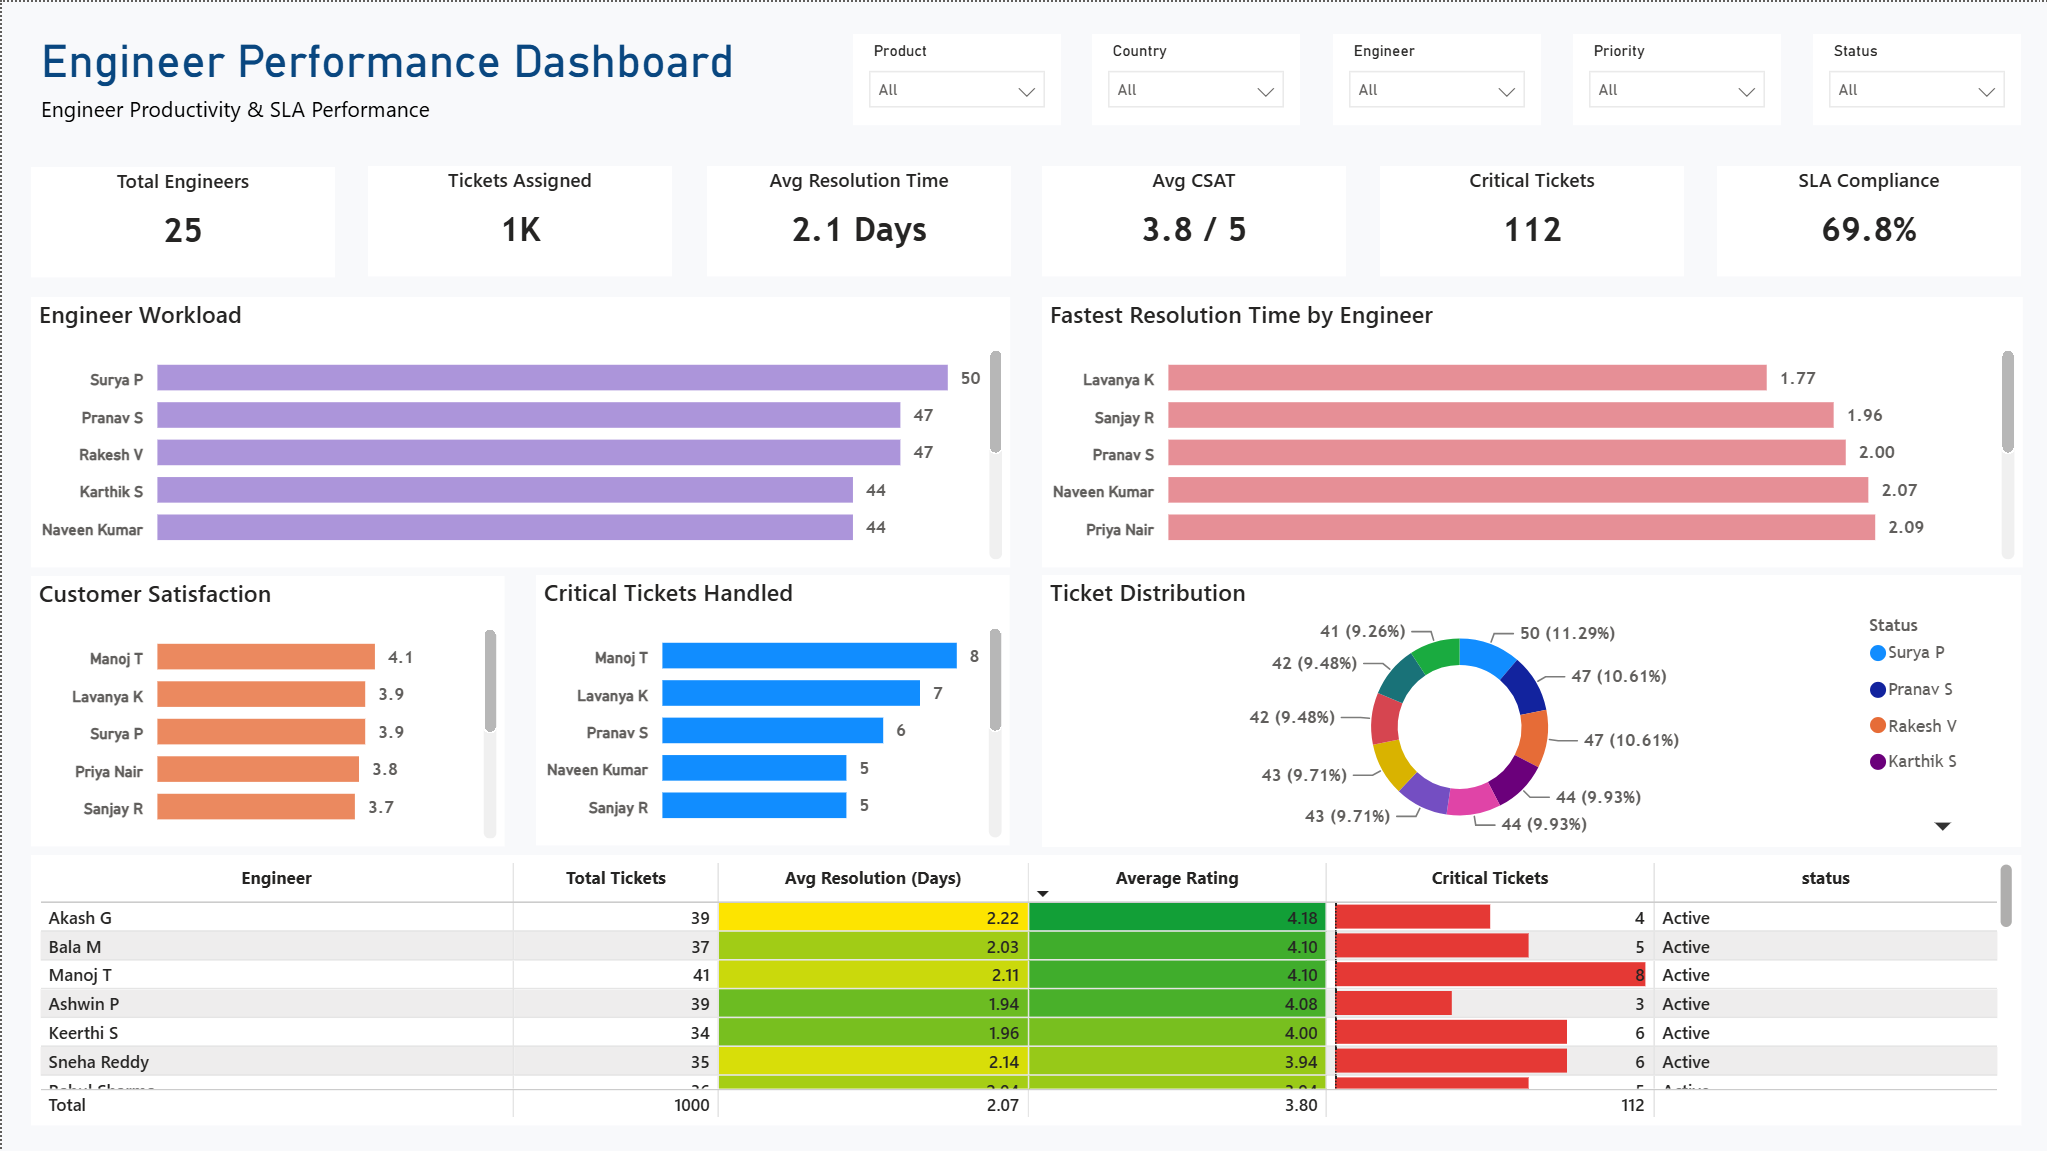

Layout of this report page (visuals, bound fields, positions):
{"tool":"powerbi","page":{"name":"Engineer Performance Dashboard","canvas":[1280,720],"ordinal":1},"visuals":[{"type":"textbox","title":"Engineer Performance Dashboard","box":[19.3,20,452.7,61.3],"z":0},{"type":"cardVisual","title":"Total Engineers","fields":{"Data":["Measures (2).Total Engineers"]},"box":[18,102.8,190,69],"z":1000},{"type":"cardVisual","title":"Tickets Assigned","fields":{"Data":["Measures (2).Total Tickets"]},"box":[229,102.5,190.1,69.3],"z":2000},{"type":"cardVisual","title":"Avg Resolution Time","fields":{"Data":["Measures (2).Avg Resolution Time Display"]},"box":[440.7,102.5,190.1,69.3],"z":3000},{"type":"cardVisual","title":"Avg CSAT","fields":{"Data":["Measures (2).Customer Rating Display"]},"box":[650,102.5,190,69.3],"z":4000},{"type":"cardVisual","title":"Critical Tickets","fields":{"Data":["Measures (2).Critical Tickets"]},"box":[861,102.5,190.1,69.3],"z":5000},{"type":"cardVisual","title":"SLA Compliance","fields":{"Data":["Measures (2).SLA Compliance %"]},"box":[1072,102.5,190.1,69.3],"z":6000},{"type":"slicer","fields":{"Values":["supportdesk_db tickets.status"]},"box":[1132,20,130,57.3],"z":7000},{"type":"slicer","fields":{"Values":["supportdesk_db tickets.priority"]},"box":[982,20,130,57.3],"z":8000},{"type":"slicer","fields":{"Values":["supportdesk_db engineers.engineer_name"]},"box":[832,20,130,57.3],"z":9000},{"type":"slicer","fields":{"Values":["supportdesk_db customers.country"]},"box":[681,20,130,57.3],"z":10000},{"type":"slicer","fields":{"Values":["supportdesk_db products.product_name"]},"box":[532,20,130,57.3],"z":11000},{"type":"clusteredBarChart","title":"Engineer Workload","fields":{"Y":["CountNonNull(supportdesk_db tickets.ticket_id)"],"Category":["supportdesk_db engineers.engineer_name"]},"box":[18,184.1,612,169],"z":12000},{"type":"pieChart","title":"Ticket Distribution","fields":{"Category":["supportdesk_db engineers.engineer_name"],"Y":["Measures (2).Total Tickets"]},"box":[650.1,358,612,170],"z":13000},{"type":"tableEx","title":"Ticket Sources","fields":{"Values":["supportdesk_db engineers.engineer_name","Measures (2).Total Tickets","Measures (2).Avg Resolution (Days)","Measures (2).Average Rating","Measures (2).Critical Tickets","supportdesk_db engineers.status"]},"box":[17.9,533,1244.2,169.2],"z":14000},{"type":"barChart","title":"Customer Satisfaction","fields":{"Category":["supportdesk_db engineers.engineer_name"],"Y":["Measures (2).Average Rating"]},"box":[18,358.6,296,169.2],"z":15000},{"type":"clusteredBarChart","title":"Fastest Resolution Time by Engineer","fields":{"Category":["supportdesk_db engineers.engineer_name"],"Y":["Measures (2).Avg Resolution (Days)"]},"box":[650.1,184.1,612.8,169],"z":16000},{"type":"barChart","title":"Critical Tickets Handled","fields":{"Category":["supportdesk_db engineers.engineer_name"],"Y":["Measures (2).Critical Tickets"]},"box":[334,358,296,169],"z":17000}]}

Visuals, with their boxes in screenshot pixels (x1, y1, x2, y2), scaled from the page's 1280x720 canvas onto the 2047x1151 screenshot:
"Engineer Performance Dashboard" textbox: [31, 32, 755, 130]
"Total Engineers" cardVisual: [29, 164, 333, 275]
"Tickets Assigned" cardVisual: [366, 164, 670, 275]
"Avg Resolution Time" cardVisual: [705, 164, 1009, 275]
"Avg CSAT" cardVisual: [1039, 164, 1343, 275]
"Critical Tickets" cardVisual: [1377, 164, 1681, 275]
"SLA Compliance" cardVisual: [1714, 164, 2018, 275]
slicer - supportdesk_db tickets.status: [1810, 32, 2018, 124]
slicer - supportdesk_db tickets.priority: [1570, 32, 1778, 124]
slicer - supportdesk_db engineers.engineer_name: [1331, 32, 1538, 124]
slicer - supportdesk_db customers.country: [1089, 32, 1297, 124]
slicer - supportdesk_db products.product_name: [851, 32, 1059, 124]
"Engineer Workload" clusteredBarChart: [29, 294, 1008, 564]
"Ticket Distribution" pieChart: [1040, 572, 2018, 844]
"Ticket Sources" tableEx: [29, 852, 2018, 1123]
"Customer Satisfaction" barChart: [29, 573, 502, 844]
"Fastest Resolution Time by Engineer" clusteredBarChart: [1040, 294, 2020, 564]
"Critical Tickets Handled" barChart: [534, 572, 1008, 842]
